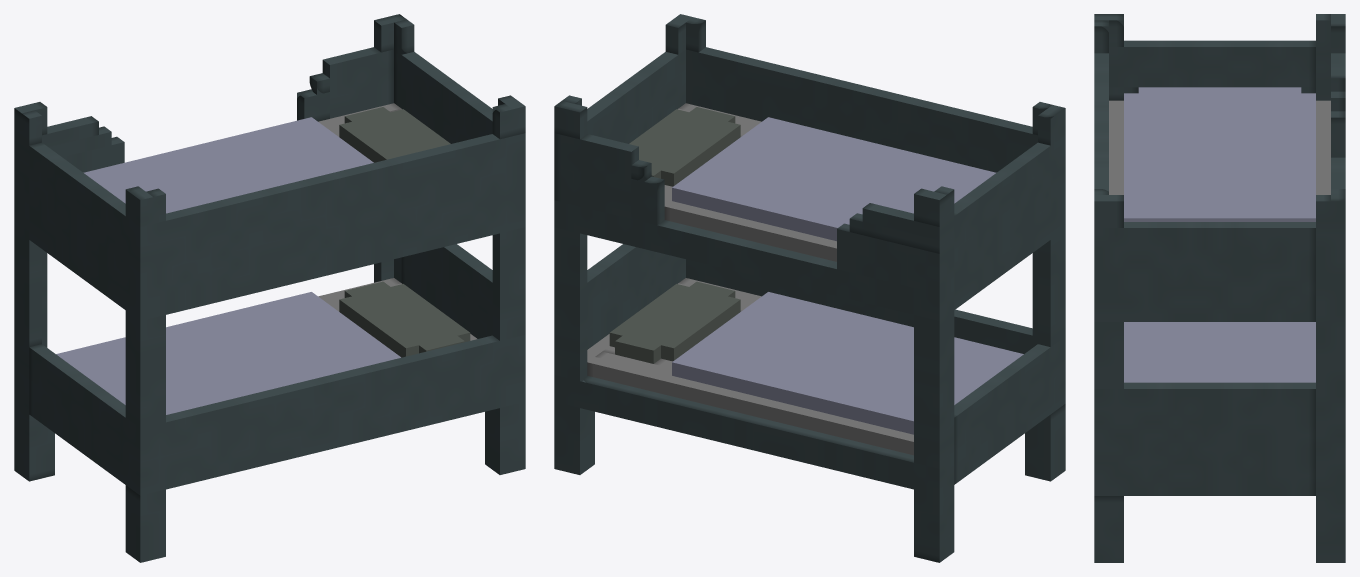
Rendered from lozko_sier_2x.dae.
3 renders of one model, left to right at view 1: azimuth 30°, elevation 25°; view 2: azimuth 150°, elevation 25°; view 3: azimuth 270°, elevation 25°, orthographic.
Visible parts, largest first — view 1: Content; view 2: Content; view 3: Content.
Part boxes in pixels (left/top/right/bottom): Content: left=14, top=14, right=525, bottom=562; Content: left=554, top=14, right=1065, bottom=562; Content: left=1094, top=14, right=1345, bottom=562.
Size of the model in its own units: 30 by 27 by 17.
Materials: 1 (1 with a texture image).
